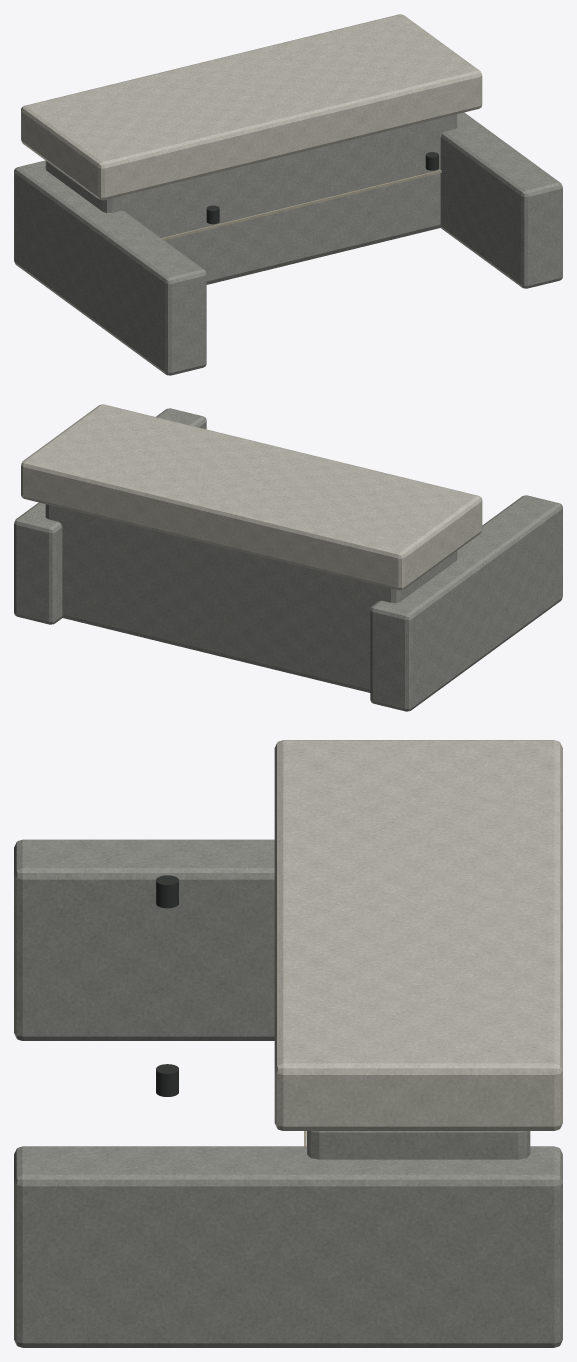
File: BRG_SUPPORT_ABUTMENT_1x1_050.glb
The picture shows the model from 3 angles, top to bottom: view 1: azimuth 30°, elevation 25°; view 2: azimuth 150°, elevation 25°; view 3: azimuth 270°, elevation 25°; orthographic projection. The views are drawn at different scales.
Visible parts, largest first — view 1: BRG_SUPPORT_ABUTMENT_1x1_050_Visual; view 2: BRG_SUPPORT_ABUTMENT_1x1_050_Visual; view 3: BRG_SUPPORT_ABUTMENT_1x1_050_Visual.
Boxes of the visible parts, left/top/right/bottom form: BRG_SUPPORT_ABUTMENT_1x1_050_Visual: left=14, top=14, right=562, bottom=375; BRG_SUPPORT_ABUTMENT_1x1_050_Visual: left=14, top=404, right=562, bottom=711; BRG_SUPPORT_ABUTMENT_1x1_050_Visual: left=14, top=740, right=562, bottom=1347.
Size of what is drawn, in the model's own units: 1.74 by 0.66 by 1.18.
4 materials, 3 textured.
